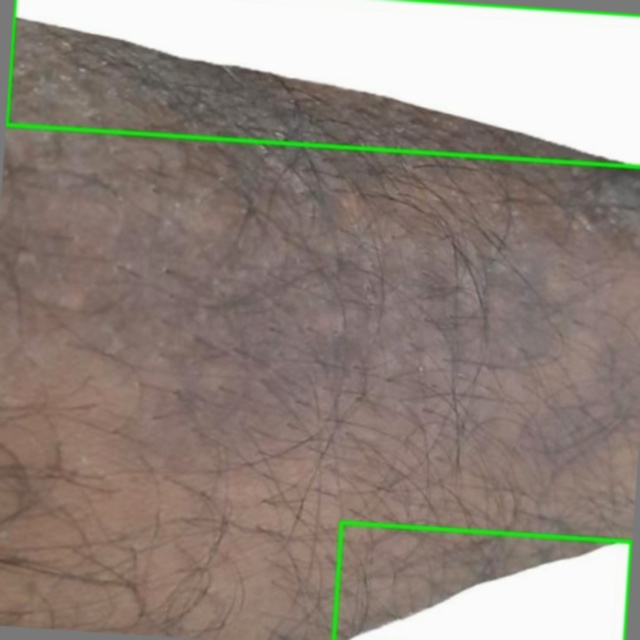Contact Dermatitis: (6, 0, 639, 166), (333, 522, 631, 639)
